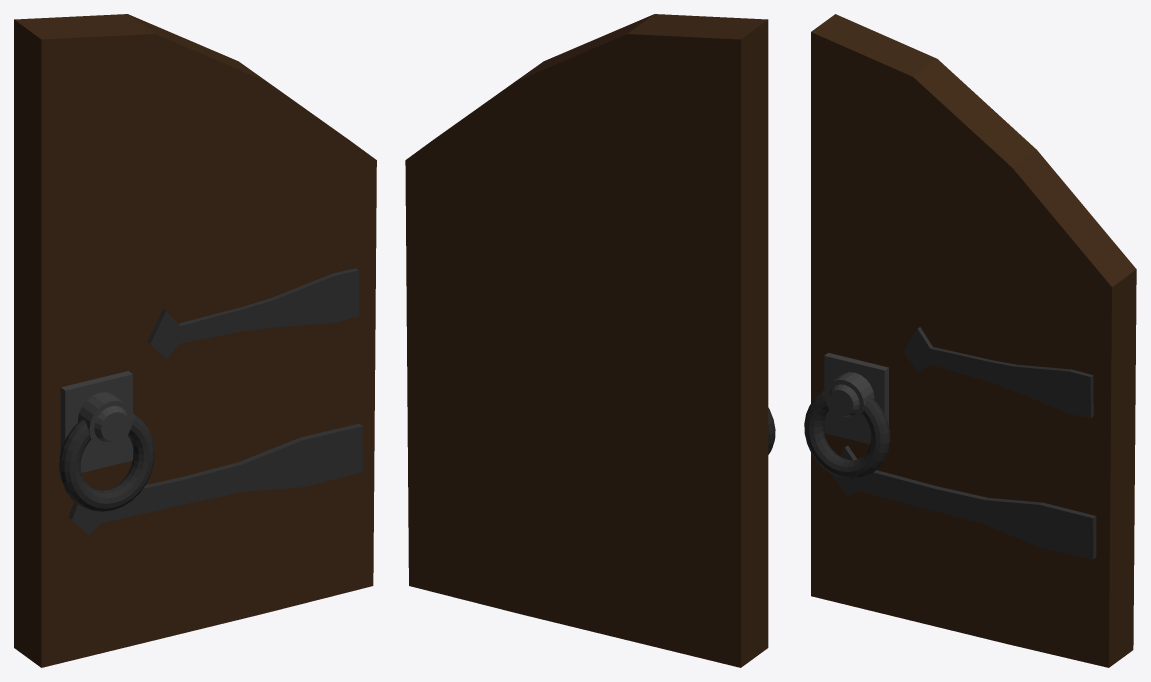
The model's file is DoorR.fbx.
3 views of the same model, side by side, from view 1: azimuth 30°, elevation 25°; view 2: azimuth 150°, elevation 25°; view 3: azimuth 330°, elevation 25° (orthographic). The views are drawn at different scales.
Visible parts, largest first — view 1: Plane.006; view 2: Plane.006; view 3: Plane.006.
Part boxes in pixels (x1=…): Plane.006: x1=14, y1=14, x2=376, y2=667; Plane.006: x1=405, y1=14, x2=775, y2=667; Plane.006: x1=804, y1=14, x2=1136, y2=667.
Size of the model in its own units: 145 by 260 by 35.86.
